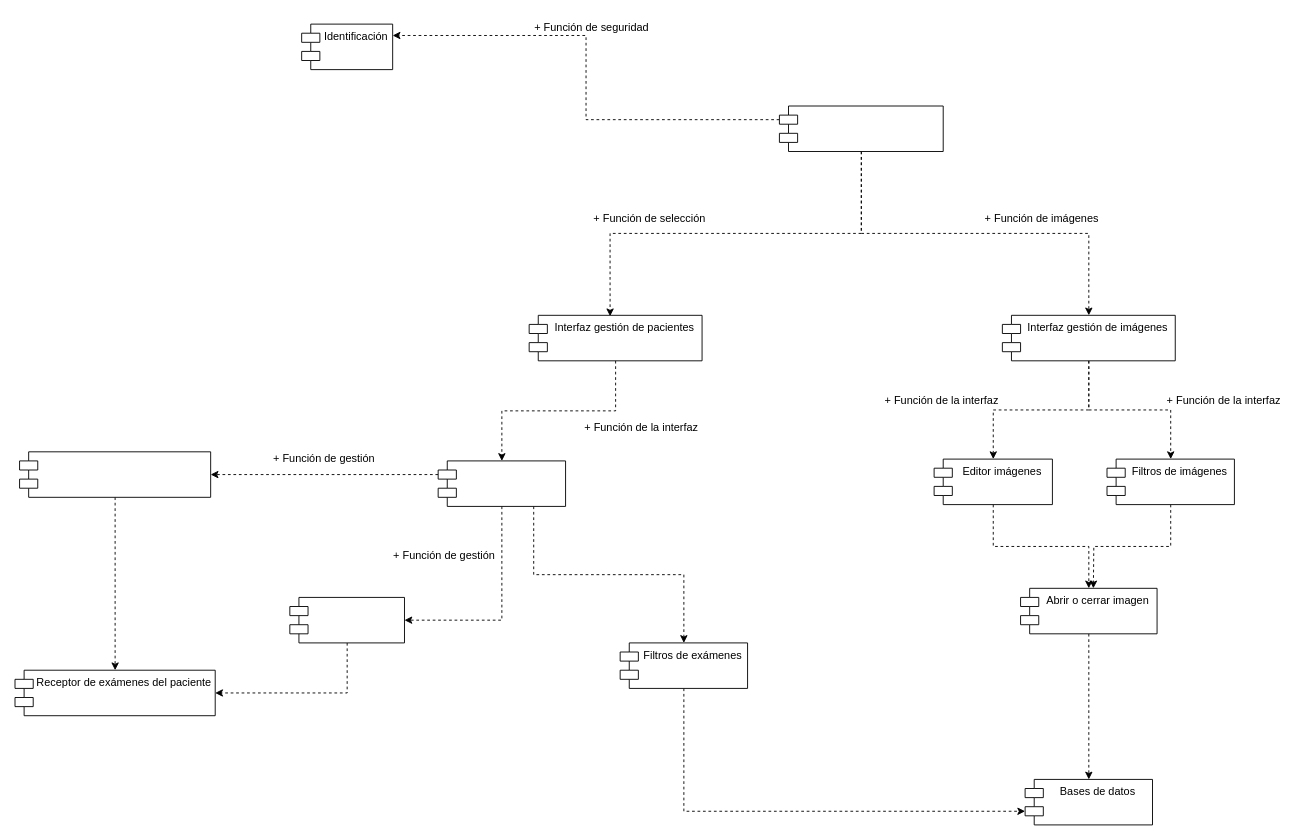
Image size: 1313x840. Some labels were removed from this diagram. Here are the shapes that lost their labels. From the top down, the centre of each, then its label:
point 861,128: Interfaz de ingreso usuario
point 115,474: Creación del registro del paciente
point 501,483: Búsqueda pacientes
point 346,620: Editor paciente
